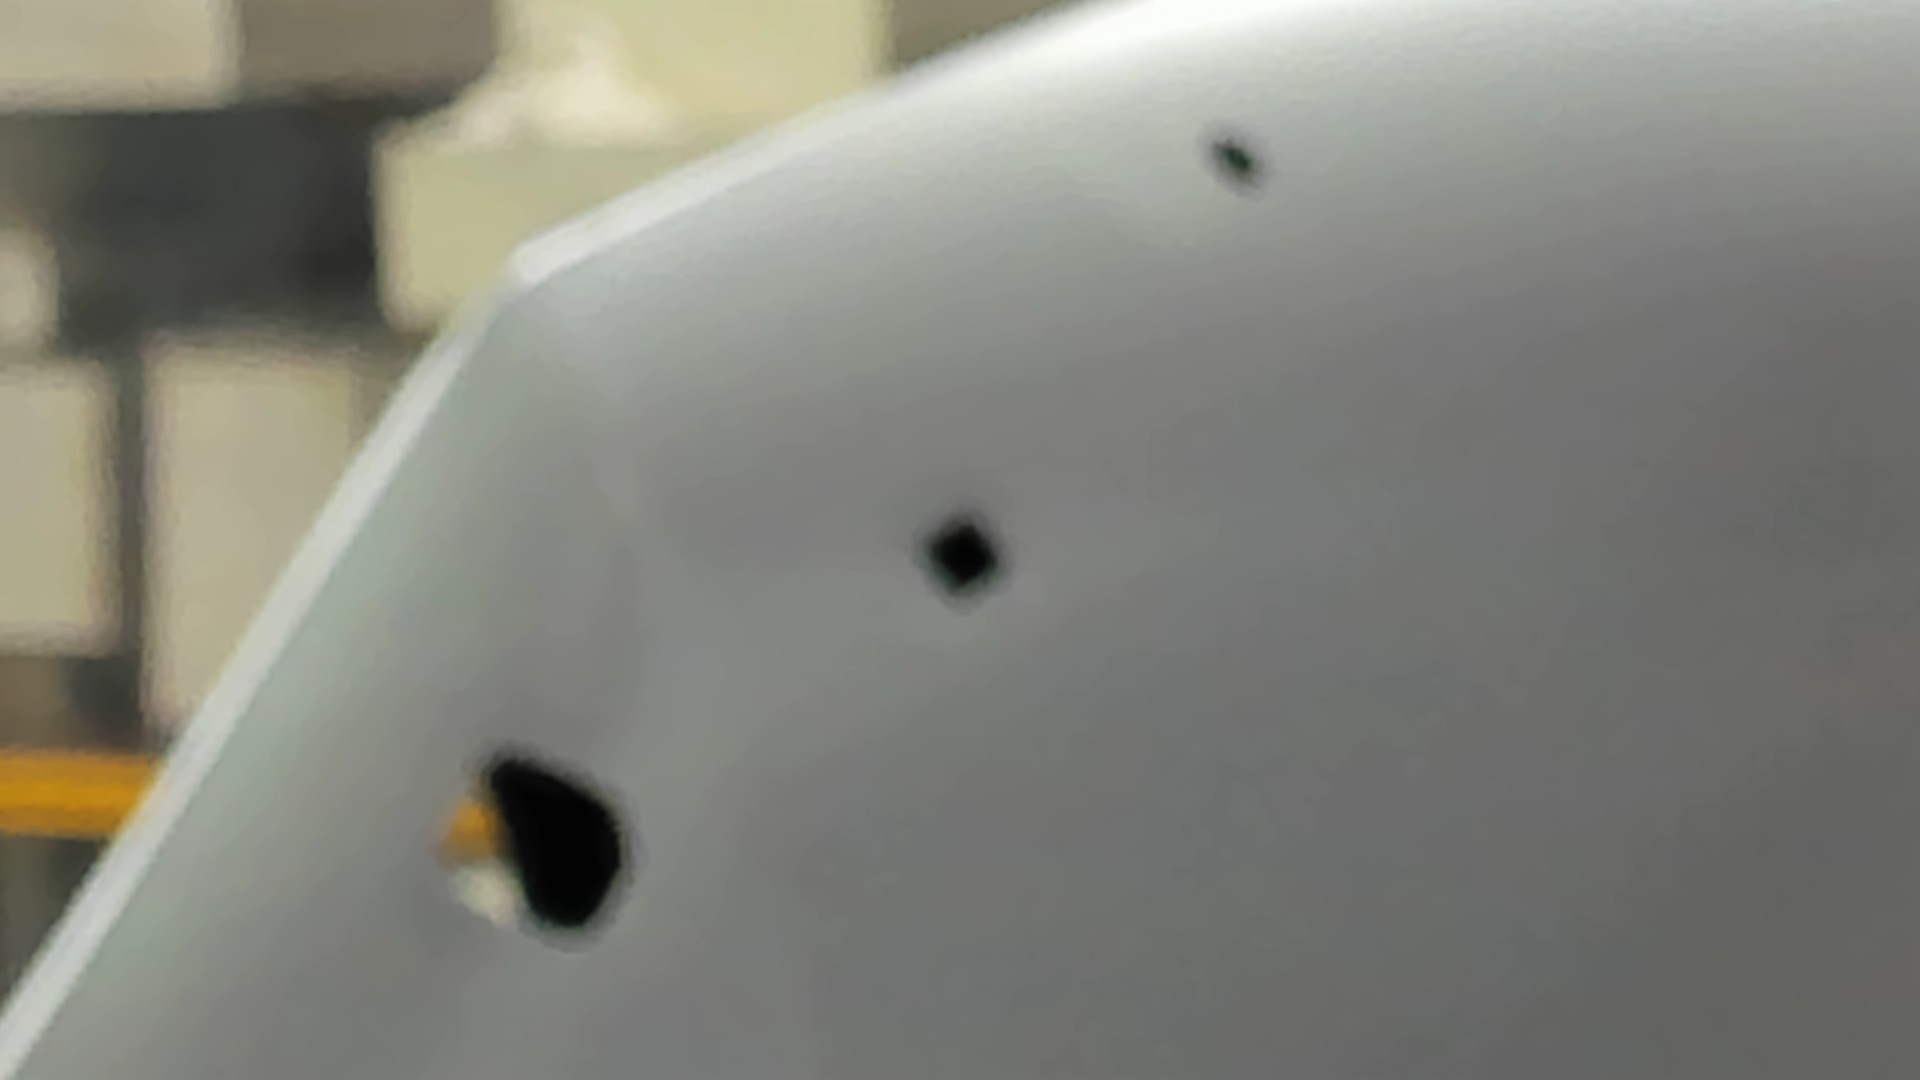chico: (1199, 117, 1270, 196)
grande: (430, 740, 634, 942)
mediano: (914, 504, 1011, 611)
